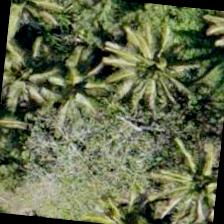Kelapa_Sawit: (88, 21, 187, 120)
